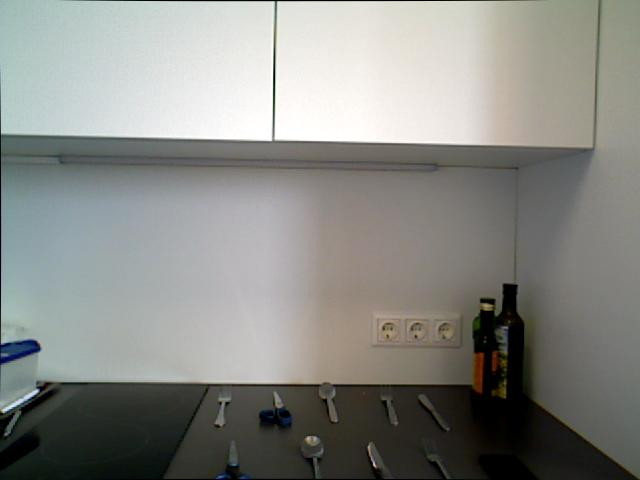bench: (493, 282, 524, 402), (471, 297, 499, 399)
cake: (214, 438, 255, 480), (257, 389, 294, 425)
cup: (415, 390, 452, 432), (363, 439, 398, 480)
sports ball: (421, 438, 457, 480), (378, 383, 402, 427), (211, 382, 233, 428)
toilet: (297, 433, 329, 480), (315, 379, 343, 425)
